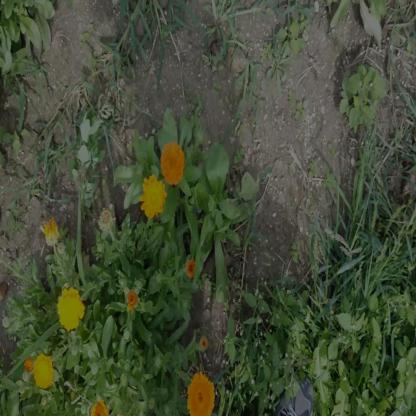marigold: (57, 290, 82, 332), (161, 142, 184, 186), (190, 374, 214, 415), (143, 176, 165, 217), (32, 354, 53, 388)
